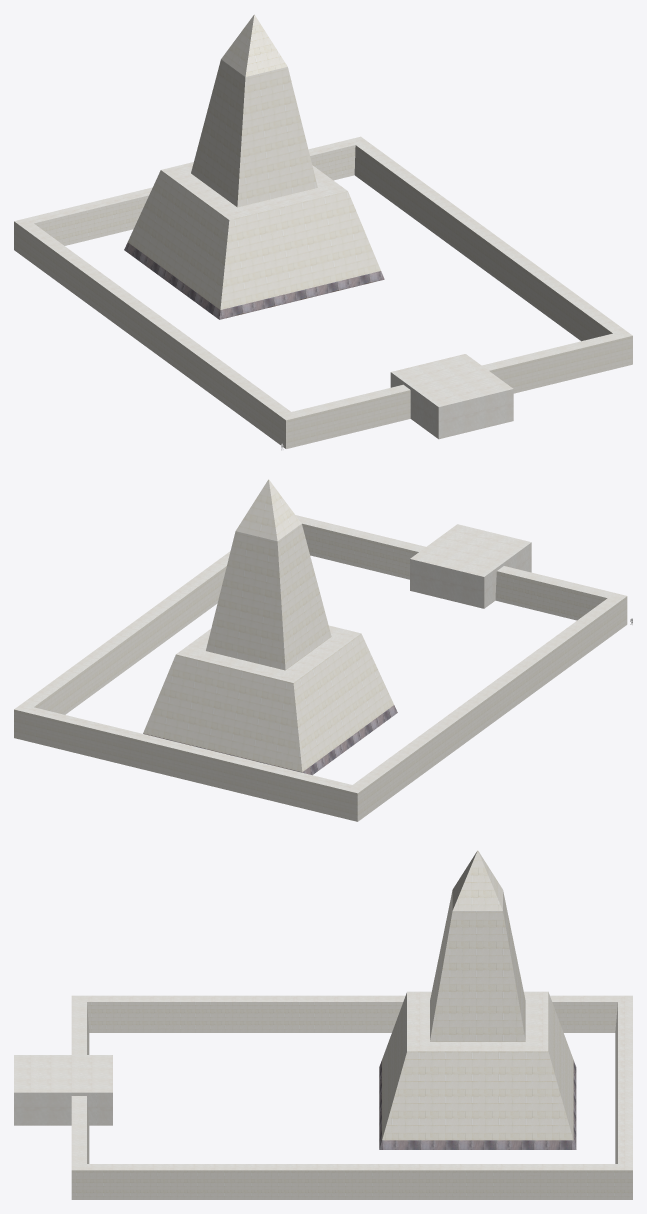
File: SolarTemple_Niuserre.obj
3 views of the same model, one above another, from view 1: azimuth 30°, elevation 25°; view 2: azimuth 150°, elevation 25°; view 3: azimuth 270°, elevation 25° (orthographic). The views are drawn at different scales.
Parts seen in each view (by area): view 1: Mesh1 Model, Mesh2 Model; view 2: Mesh1 Model, Mesh2 Model; view 3: Mesh1 Model, Mesh2 Model.
Part boxes in pixels (x1,y1,x2,y2): Mesh1 Model: [14, 136, 632, 448]; Mesh2 Model: [124, 14, 384, 319]; Mesh1 Model: [14, 515, 627, 821]; Mesh2 Model: [143, 479, 397, 775]; Mesh1 Model: [14, 995, 632, 1199]; Mesh2 Model: [379, 850, 576, 1149].
Size of the model in its own units: 83.08 by 56.5 by 123.
6 materials, 5 textured.
